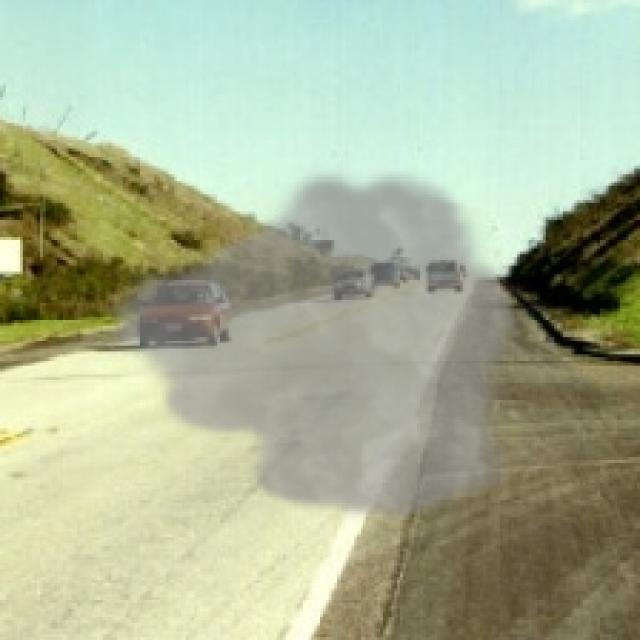Smoke: (100, 160, 523, 526)
